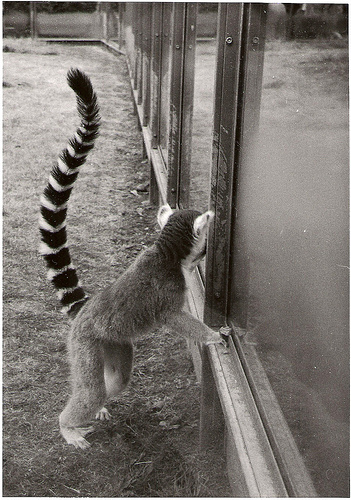cat: (41, 65, 229, 452)
